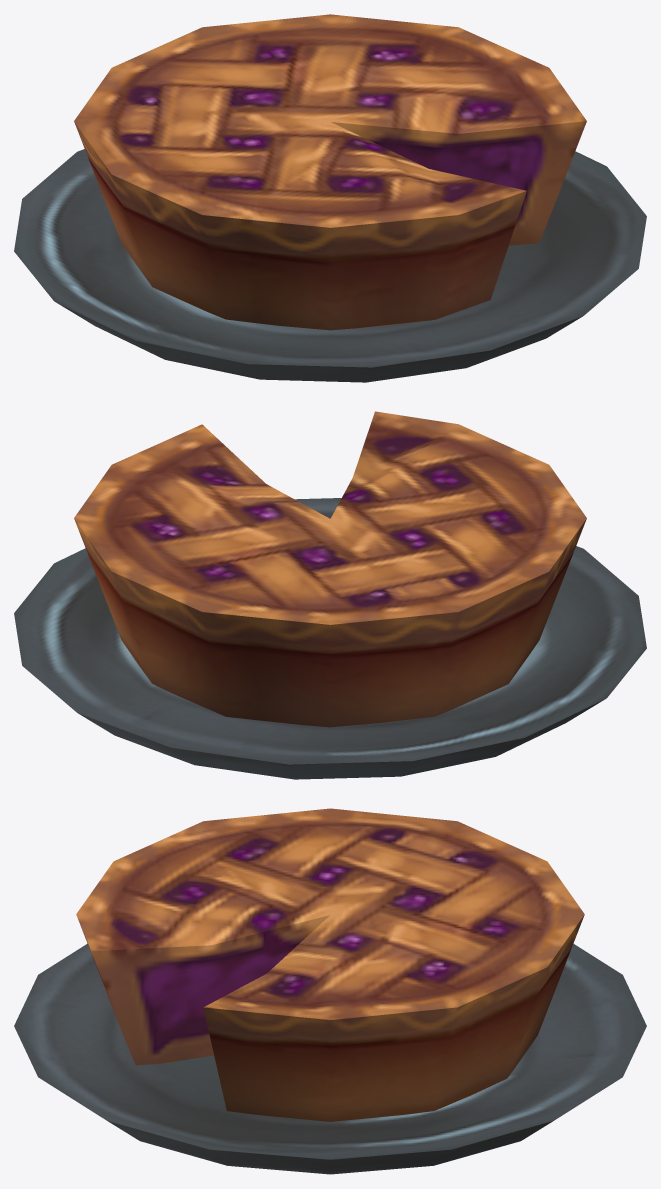
File: pie.fbx
The picture shows the model from 3 angles, top to bottom: view 1: azimuth 30°, elevation 25°; view 2: azimuth 150°, elevation 25°; view 3: azimuth 270°, elevation 25°; orthographic projection.
Visible parts, largest first — view 1: pie; view 2: pie; view 3: pie.
Boxes of the visible parts, x1,y1,x2,y2 form: pie: (14,14,646,382); pie: (14,411,646,779); pie: (14,808,646,1174).
Size of the model in its own units: 64.25 by 16.38 by 64.25.
